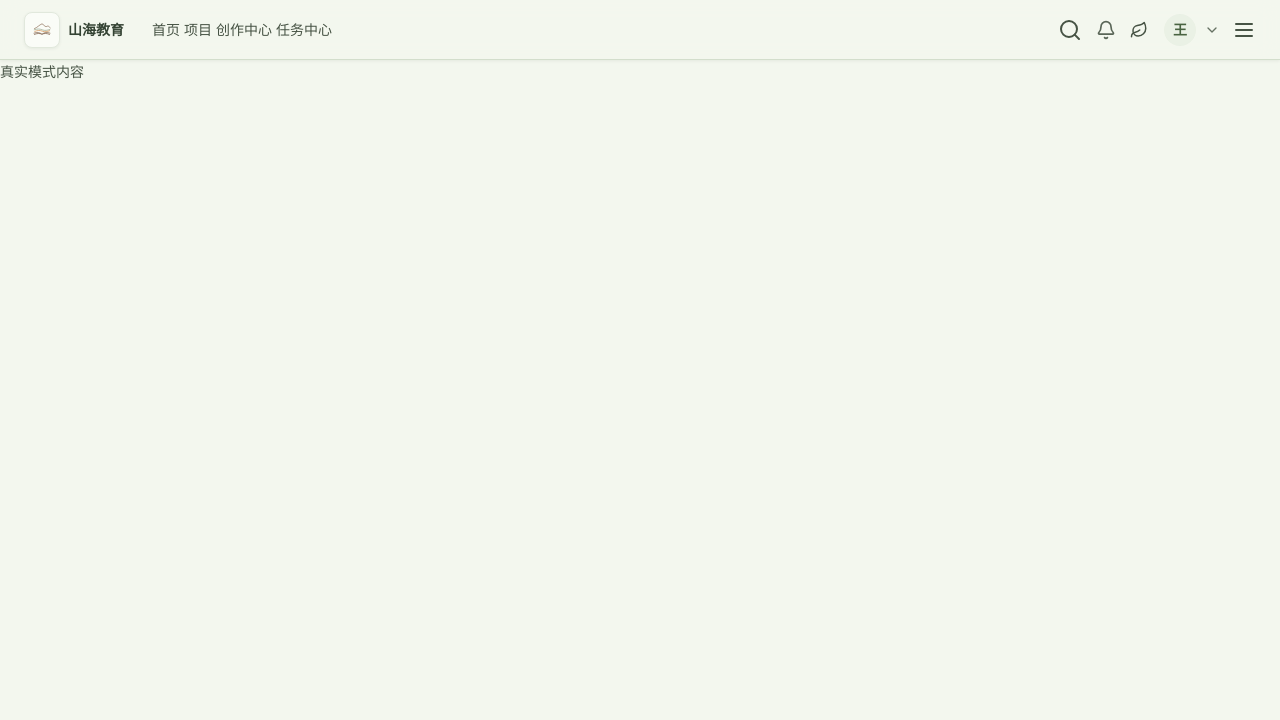
RuntimeAppShell production boundaries › 真实模式的搜索和通知不会展示演示项目记录
Step 1. Click the button named "搜索" → (1070, 30), box [1058,18,1082,42]
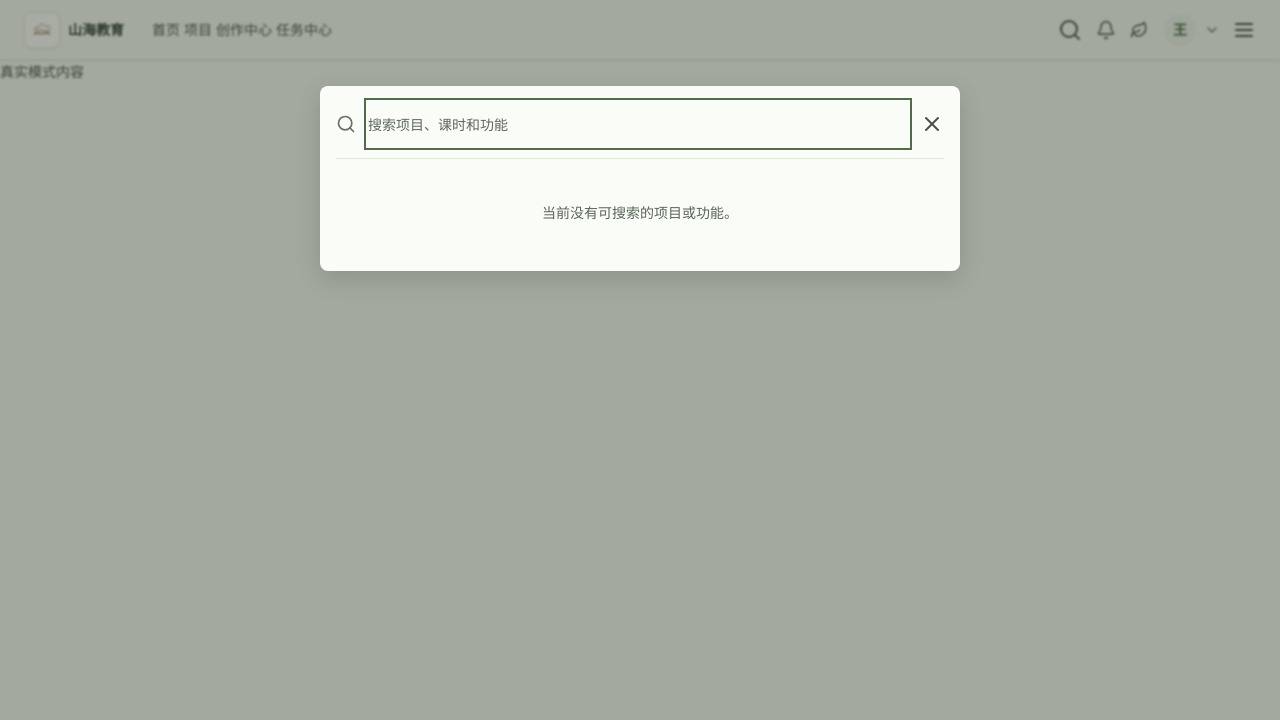
Expected: the text "当前没有可搜索的项目或功能。" is shown, [542,204,738,221]
Step 2. Click the button named "关闭搜索" → (932, 124), box [920,112,944,136]
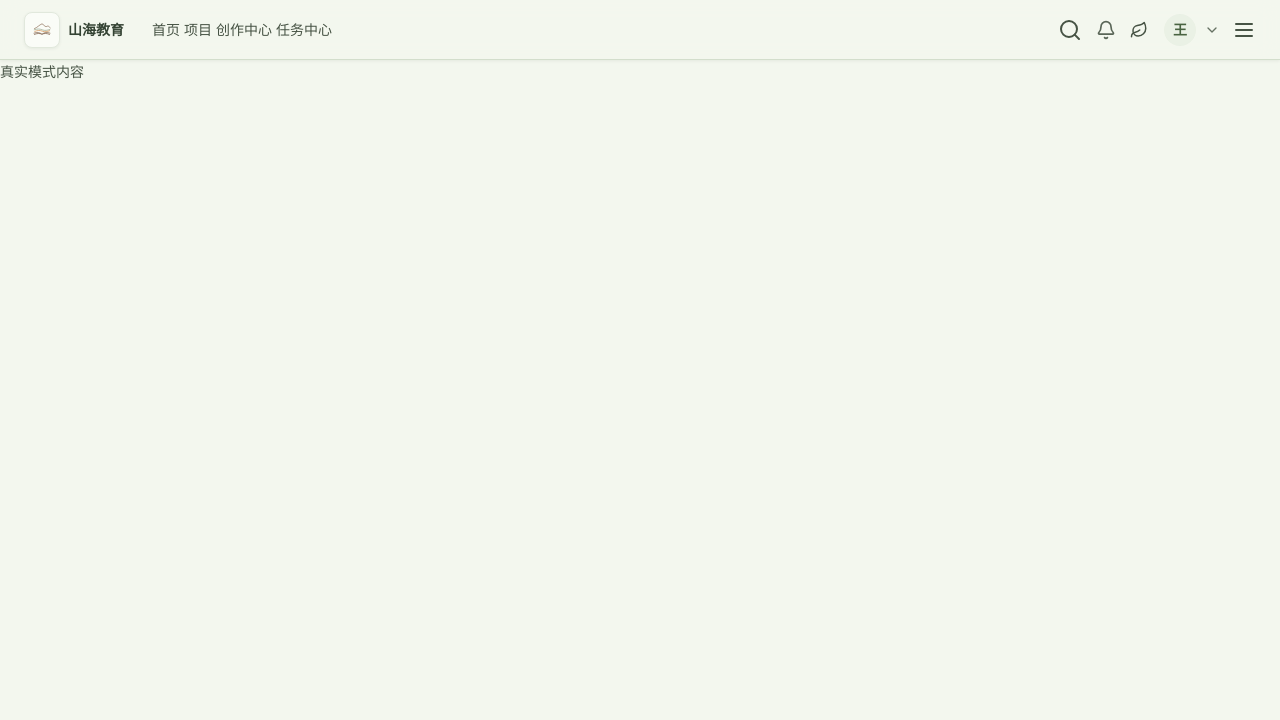
Step 3. Click the button named "通知" → (1106, 30), box [1086,10,1126,50]
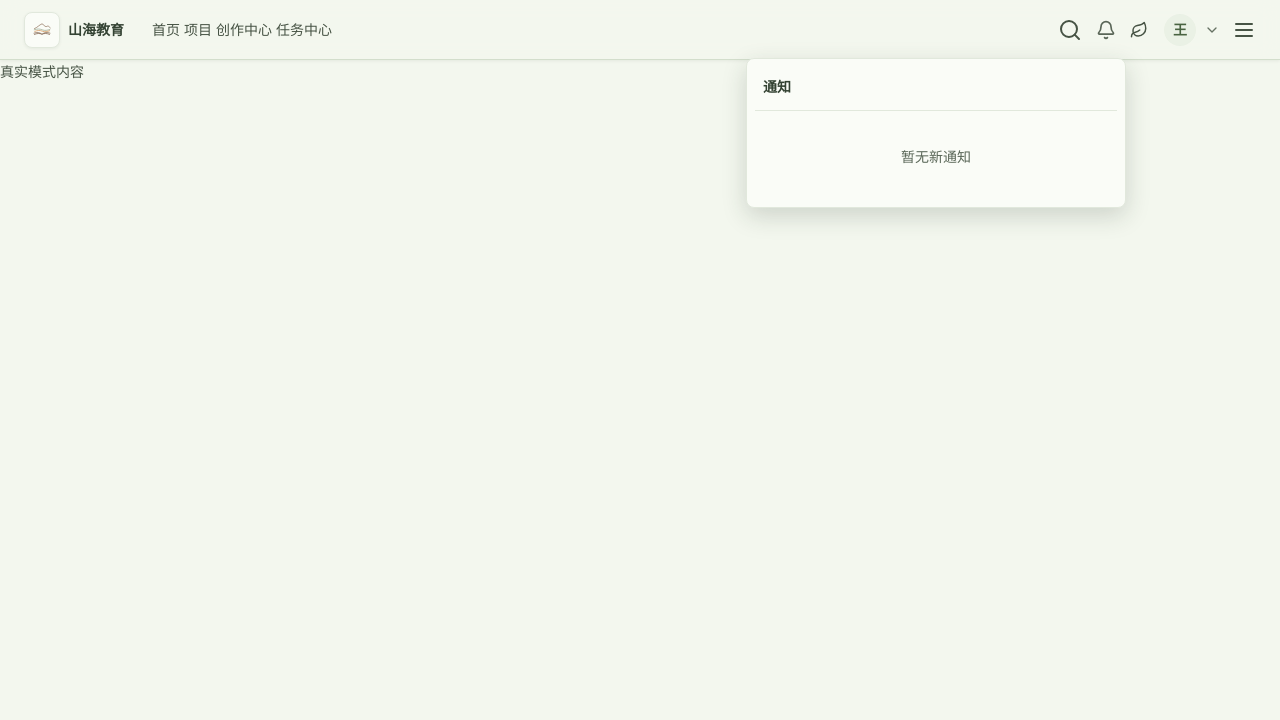
Expected: the text "暂无新通知" is shown, [901,148,971,165]
